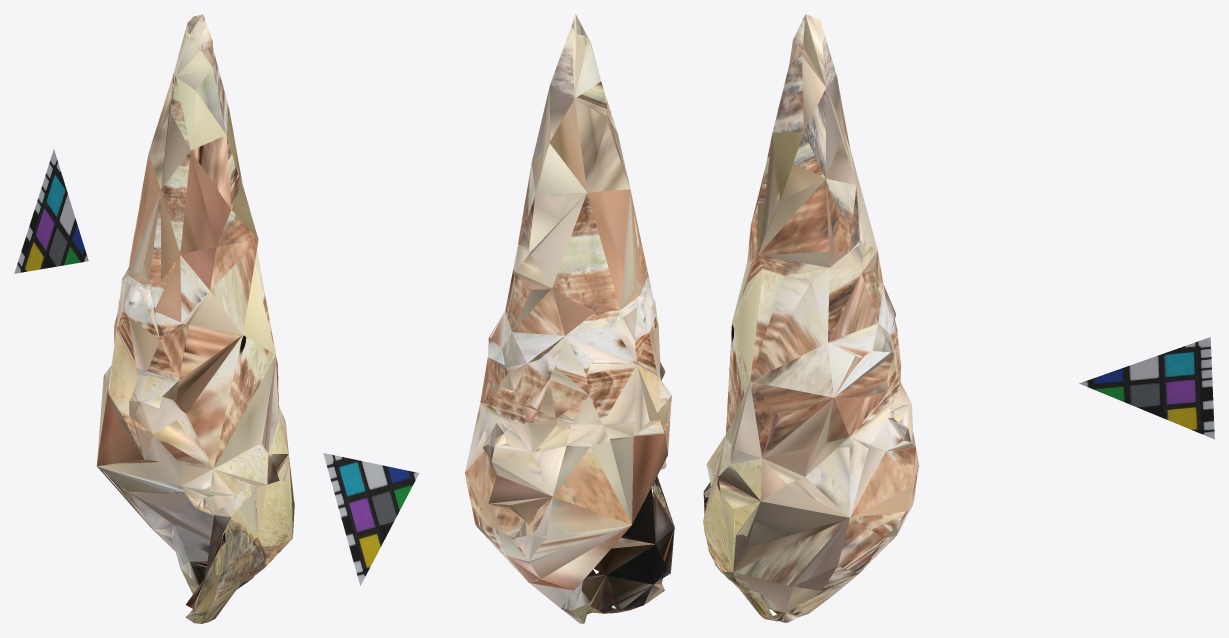
File: shell_horn.glb
The picture shows the model from 3 angles, left to right: view 1: azimuth 30°, elevation 25°; view 2: azimuth 150°, elevation 25°; view 3: azimuth 270°, elevation 25°; orthographic projection. The views are drawn at different scales.
Parts seen in each view (by area): view 1: shell_horn; view 2: shell_horn; view 3: shell_horn.
Boxes of the visible parts, box(x1,y1,x2,y2) form: shell_horn: box(14, 14, 294, 623); shell_horn: box(323, 14, 674, 623); shell_horn: box(703, 14, 1214, 622).
Bounding box in the file's own units: 0.3986 × 1.3 × 0.9893.
Materials: 2 (2 with a texture image).
